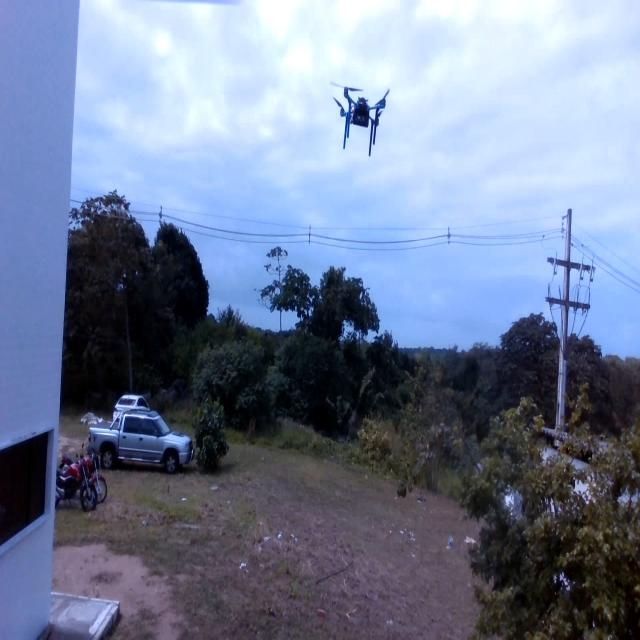-uav-: (321, 52, 397, 167)
